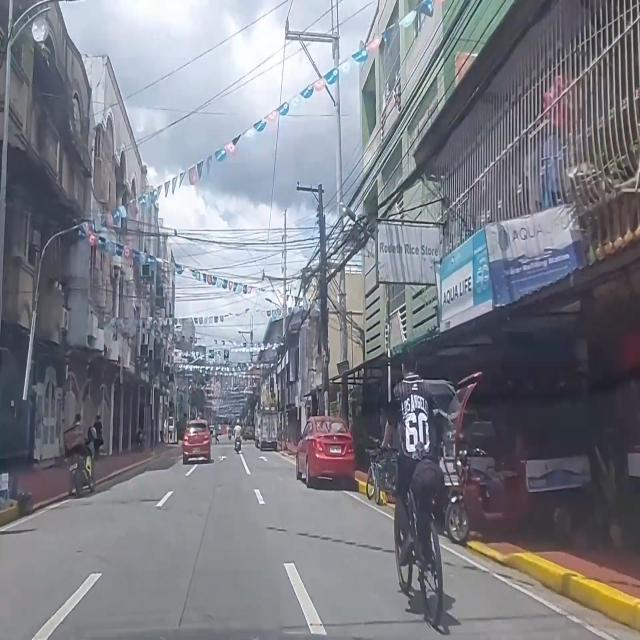bike: (394, 359, 444, 632), (366, 450, 384, 504)
car: (296, 416, 355, 488), (182, 419, 211, 464)
motorcycle: (64, 414, 95, 496), (234, 419, 242, 453), (228, 426, 232, 441)
tricycle: (445, 369, 593, 546)
truck: (255, 408, 278, 451)
